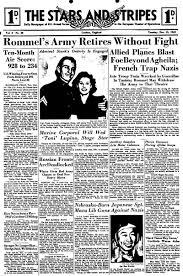Printing industry: (2, 7, 183, 276)
